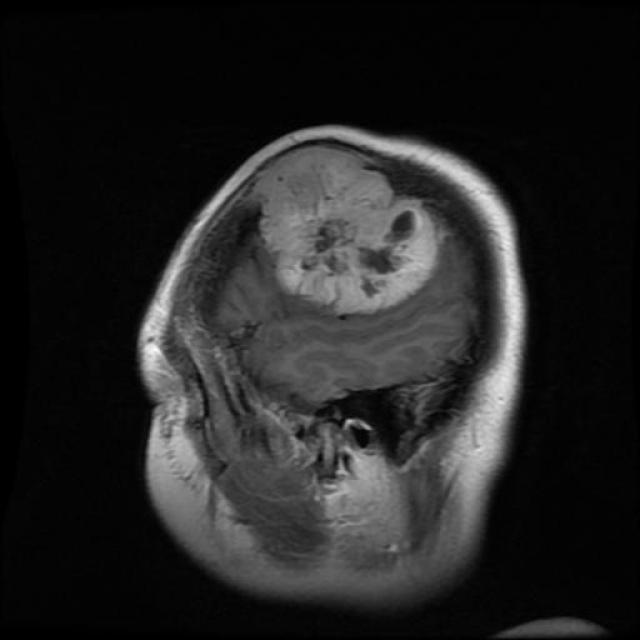Brain-Tumor: (243, 124, 454, 330)
